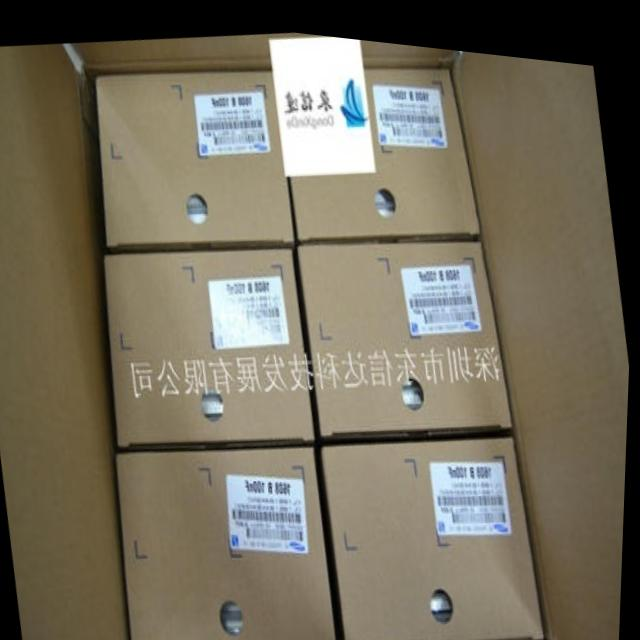box: (326, 426, 549, 640), (120, 440, 342, 640), (298, 228, 515, 431), (106, 241, 317, 447), (96, 64, 297, 251), (290, 60, 483, 239)
